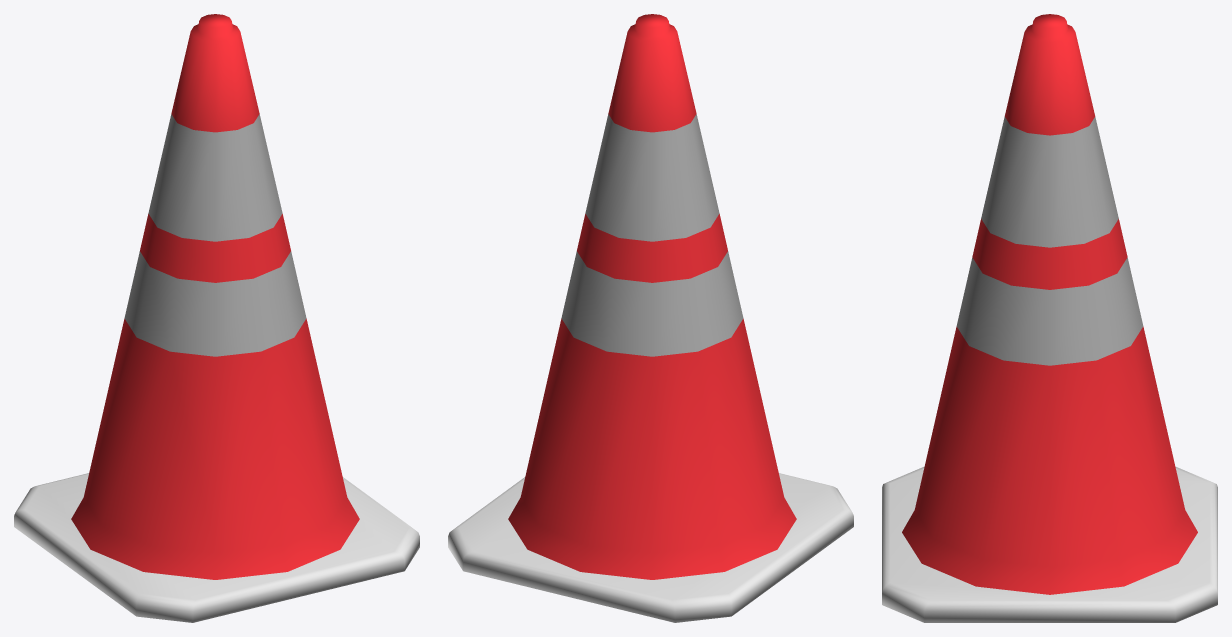
File: red.dae
3 renders of one model, left to right at view 1: azimuth 30°, elevation 25°; view 2: azimuth 150°, elevation 25°; view 3: azimuth 270°, elevation 25°, orthographic. The views are drawn at different scales.
Visible parts, largest first — view 1: Cube; view 2: Cube; view 3: Cube.
Boxes of the visible parts, box(x1,y1,x2,y2) form: Cube: box(14, 14, 419, 622); Cube: box(448, 14, 853, 622); Cube: box(882, 14, 1217, 622).
Bounding box in the file's own units: 1 × 1 × 1.74.
